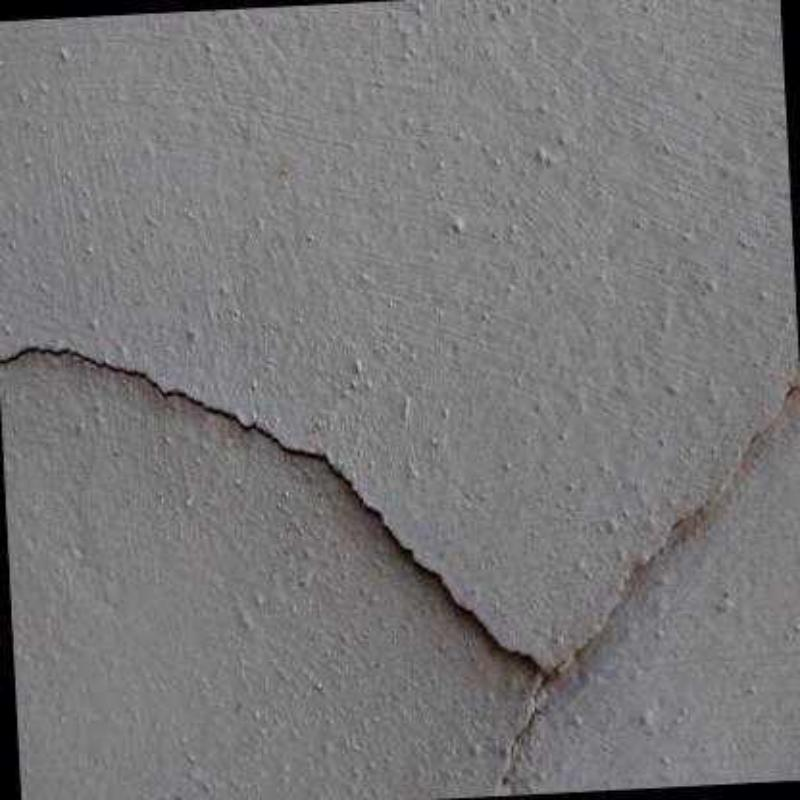pothole: (0, 342, 798, 796)
